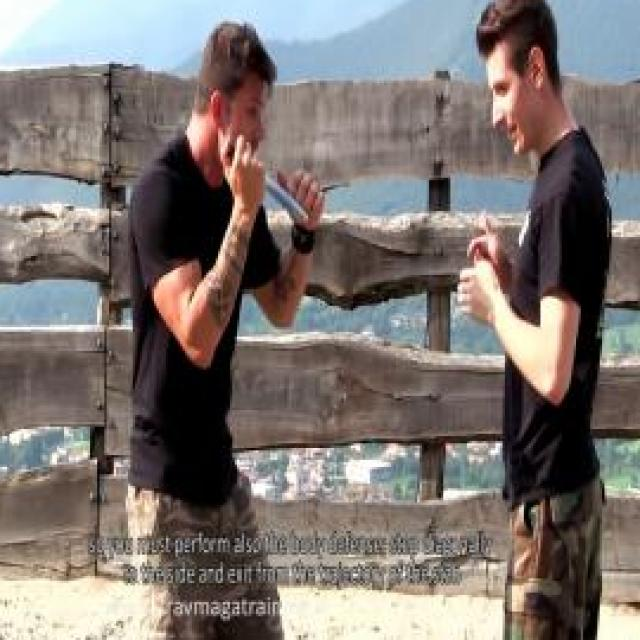knife: (218, 130, 314, 228)
